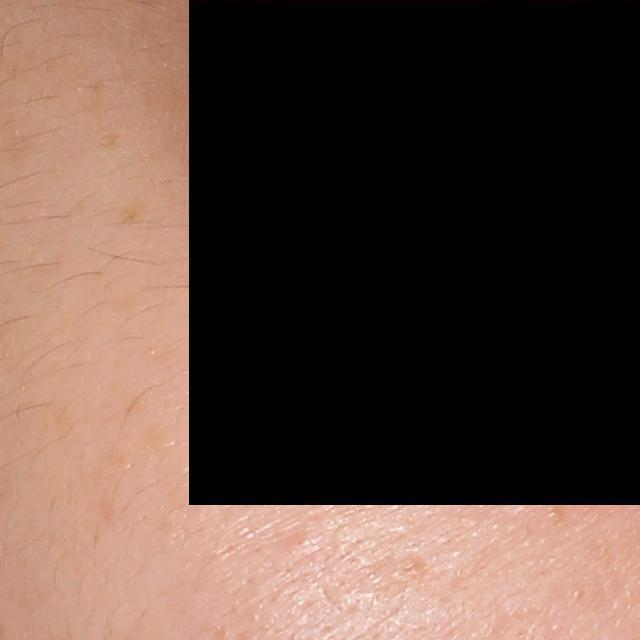melasma: (117, 194, 153, 226)
